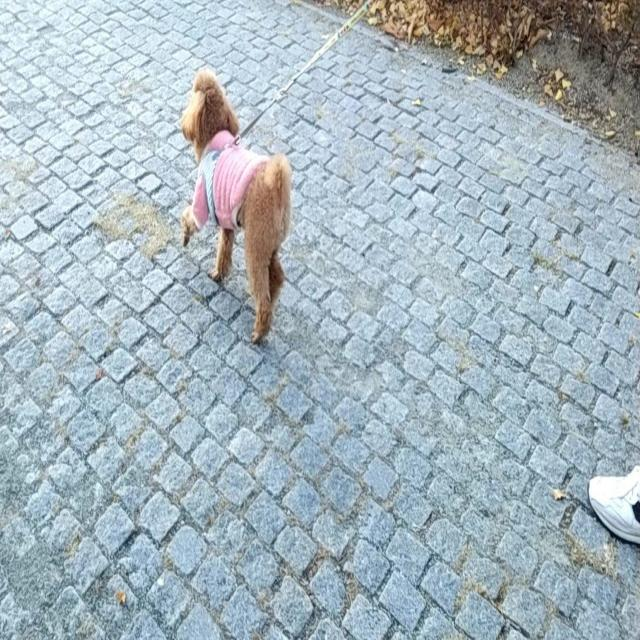Dog: (181, 65, 291, 345)
